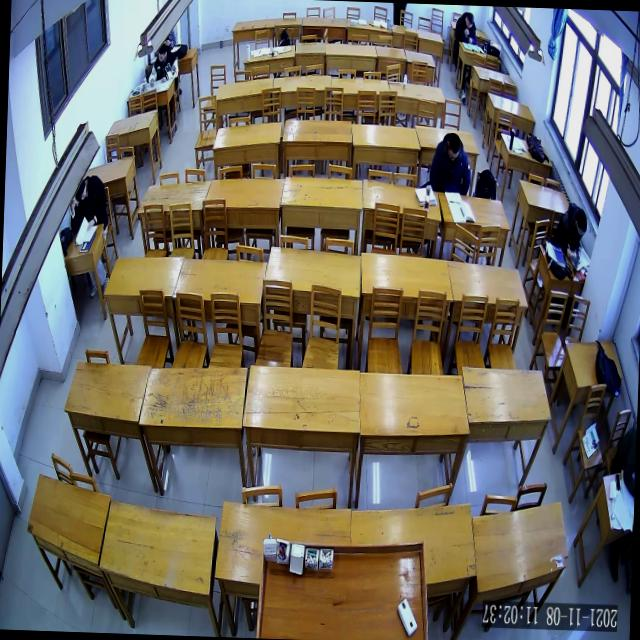down: (444, 130, 461, 164), (572, 206, 588, 240), (74, 176, 88, 202), (156, 42, 167, 65), (463, 10, 475, 30)
sit: (427, 128, 472, 197), (69, 171, 108, 236), (550, 198, 588, 260), (147, 40, 180, 89), (453, 10, 478, 46)
